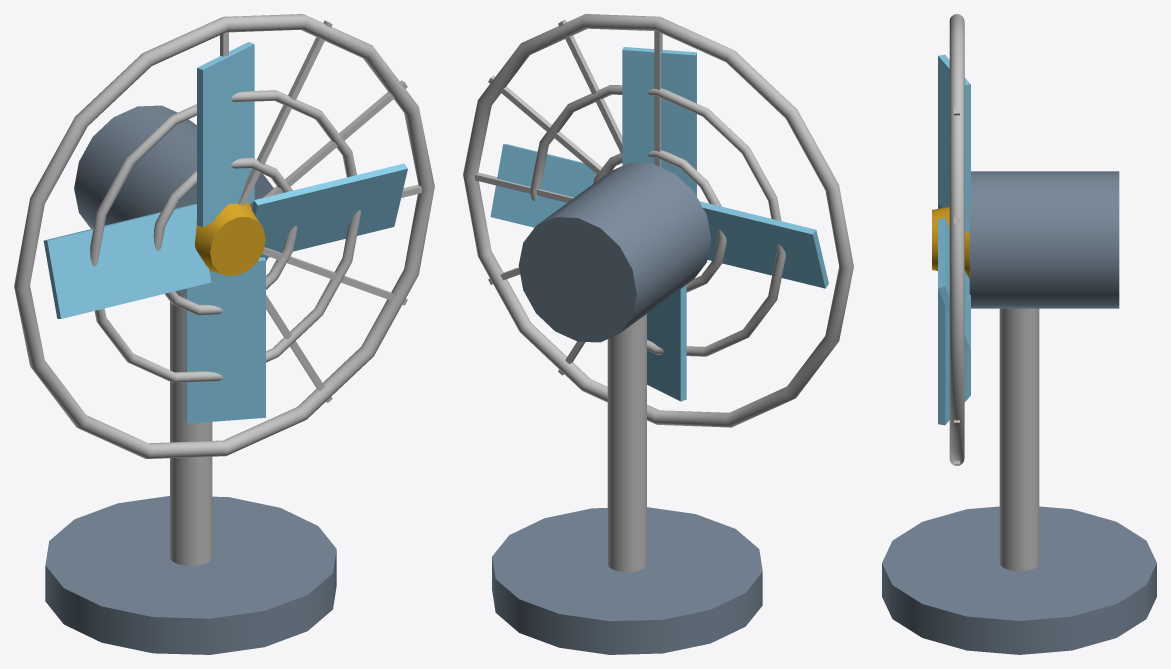
Rendered from desk_fan.glb.
3 renders of one model, left to right at view 1: azimuth 30°, elevation 25°; view 2: azimuth 150°, elevation 25°; view 3: azimuth 270°, elevation 25°, orthographic. The views are drawn at different scales.
Size of the model in its own units: 0.362 by 0.496 by 0.22.
